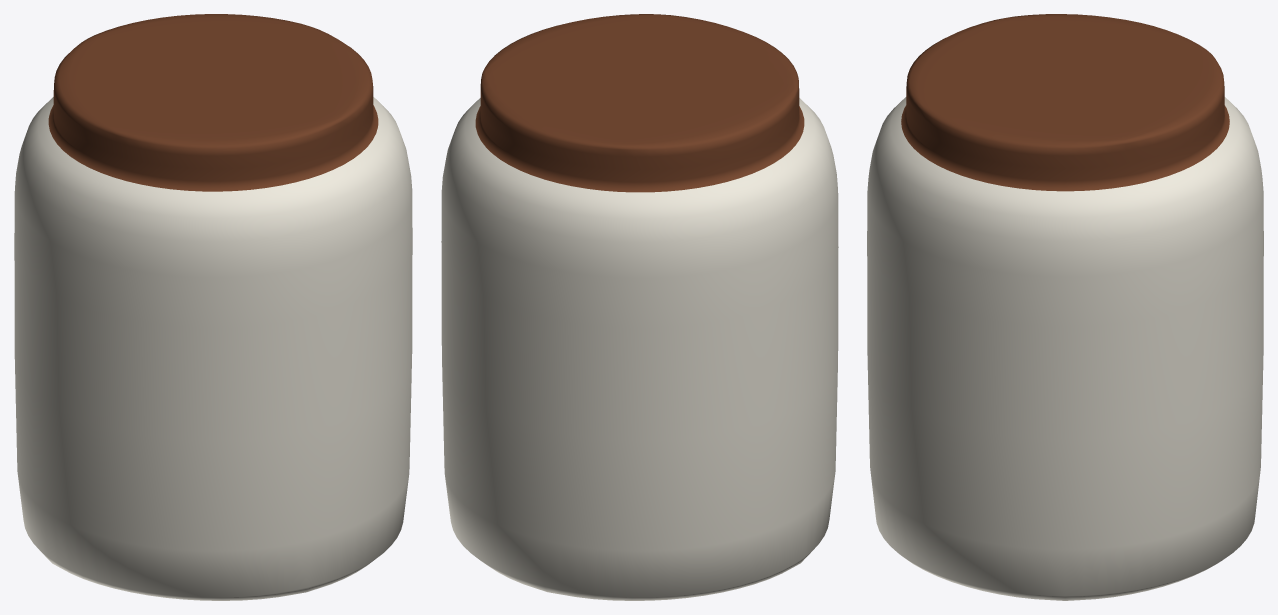
Rendered from jar.fbx.
3 renders of one model, left to right at view 1: azimuth 30°, elevation 25°; view 2: azimuth 150°, elevation 25°; view 3: azimuth 270°, elevation 25°, orthographic.
Parts seen in each view (by area): view 1: Circle; view 2: Circle; view 3: Circle.
Boxes of the visible parts, <box> form: Circle: <box>14,14,412,600</box>; Circle: <box>441,14,838,600</box>; Circle: <box>867,14,1263,600</box>.
Size of the model in its own units: 249 by 307 by 249.
